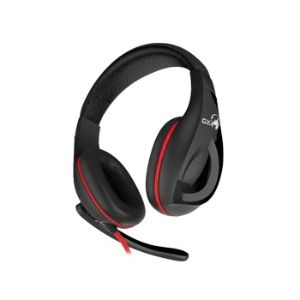headset: (66, 42, 228, 268)
